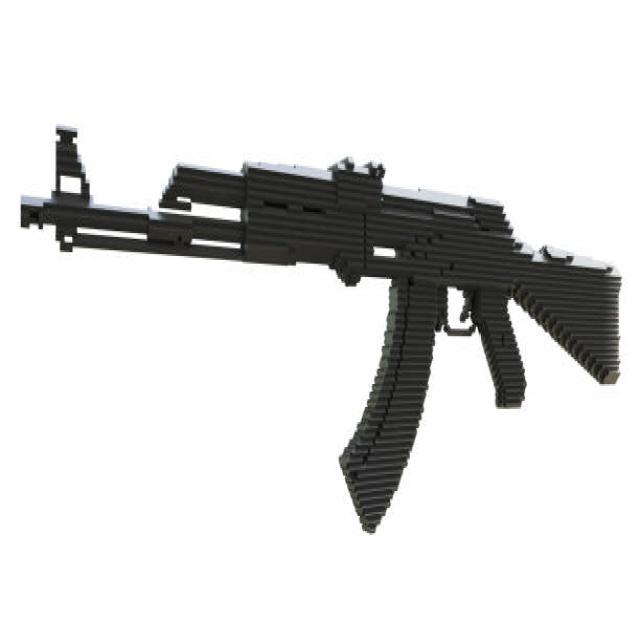rifle: (18, 106, 627, 539)
